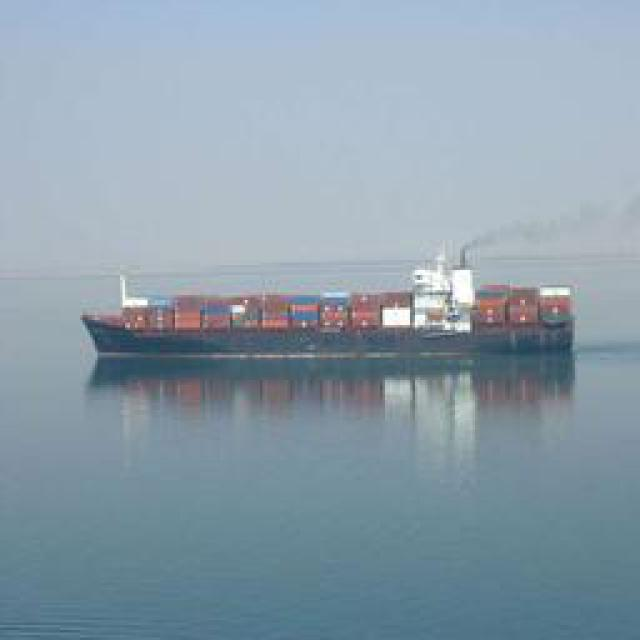Ship: (84, 274, 584, 359)
